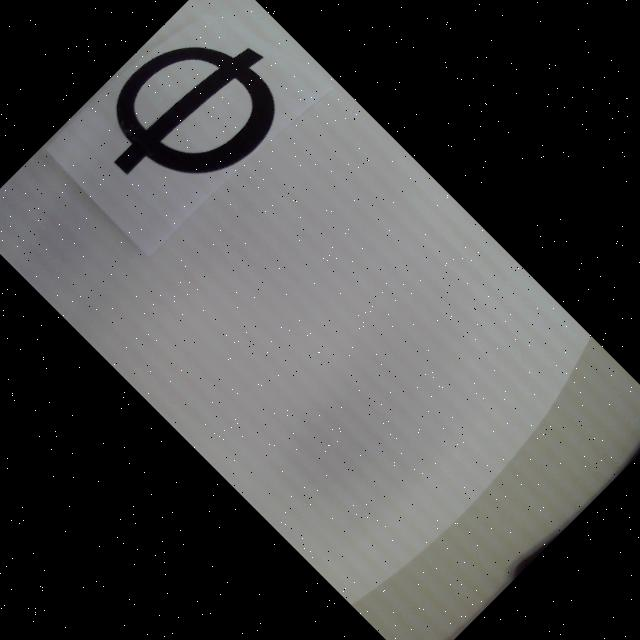PHI: (77, 0, 305, 227)
